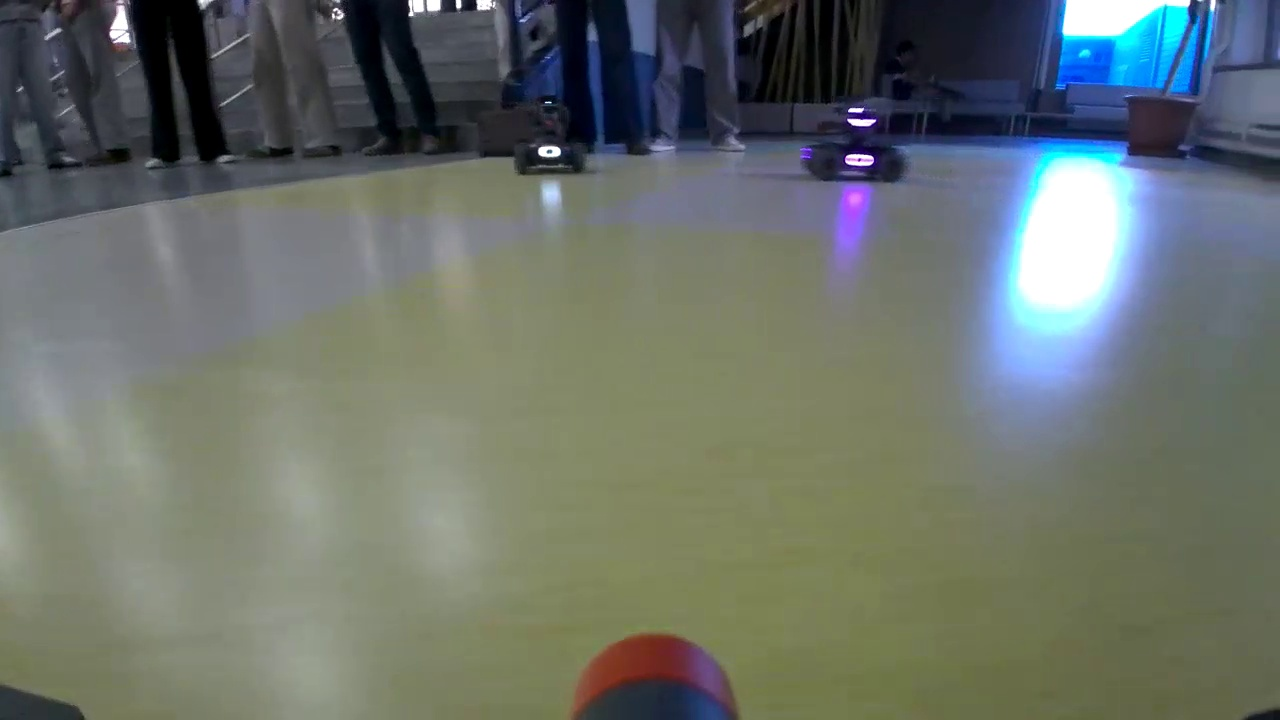robot: (801, 97, 908, 182), (515, 94, 586, 179)
